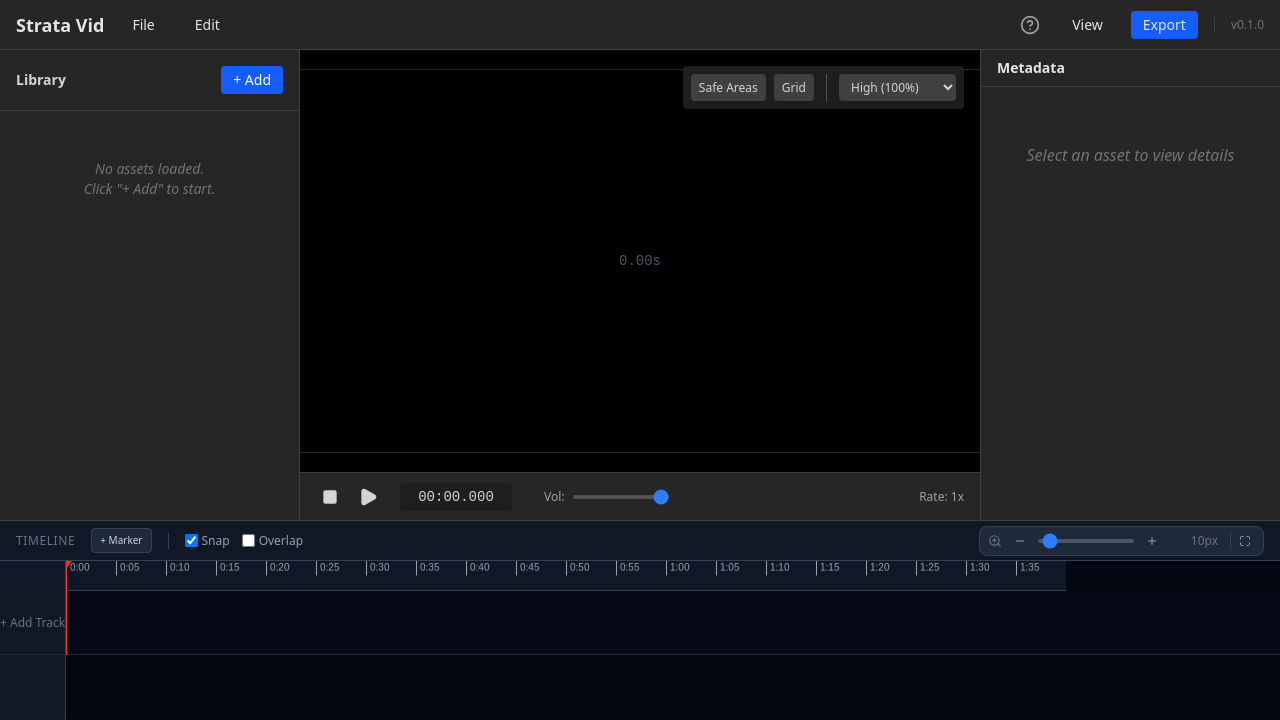
Integration: Help System › opens help modal via button
// Help button should be in header
Click the button named "Help" at (1030, 24), box [1016,10,1044,38]
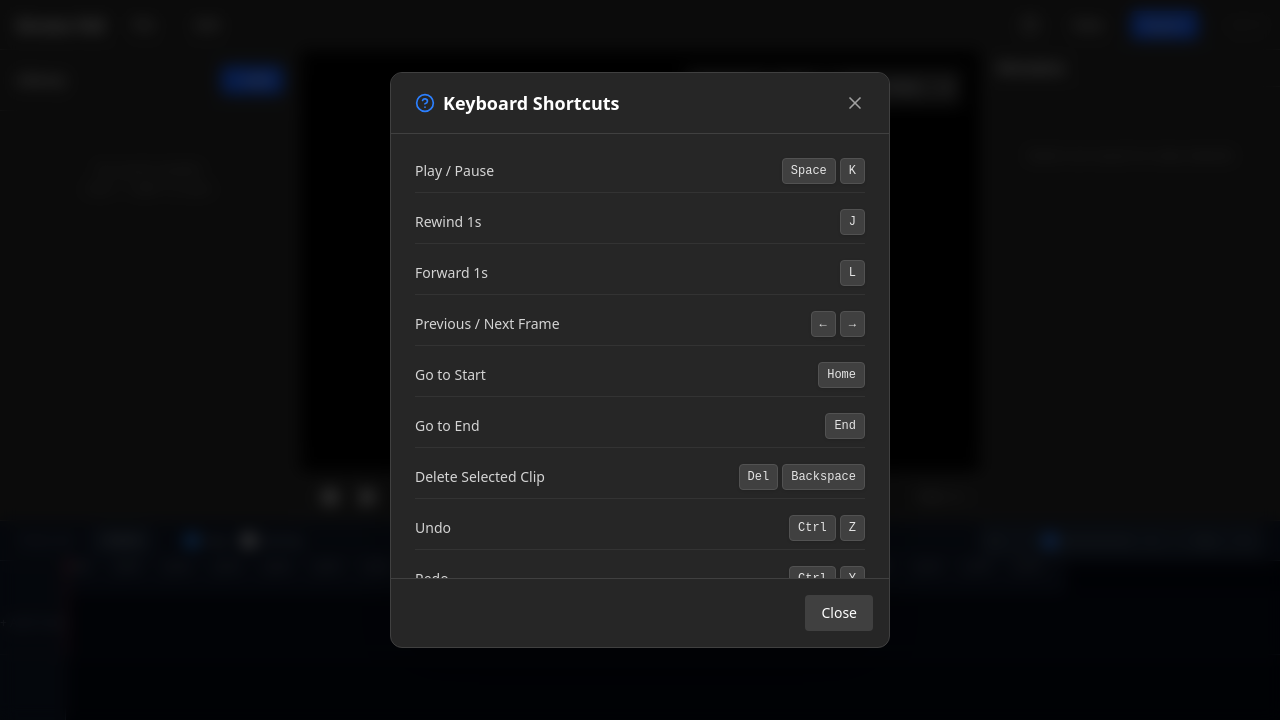
Now the heading "Keyboard Shortcuts" is shown, box [415,89,620,117]
